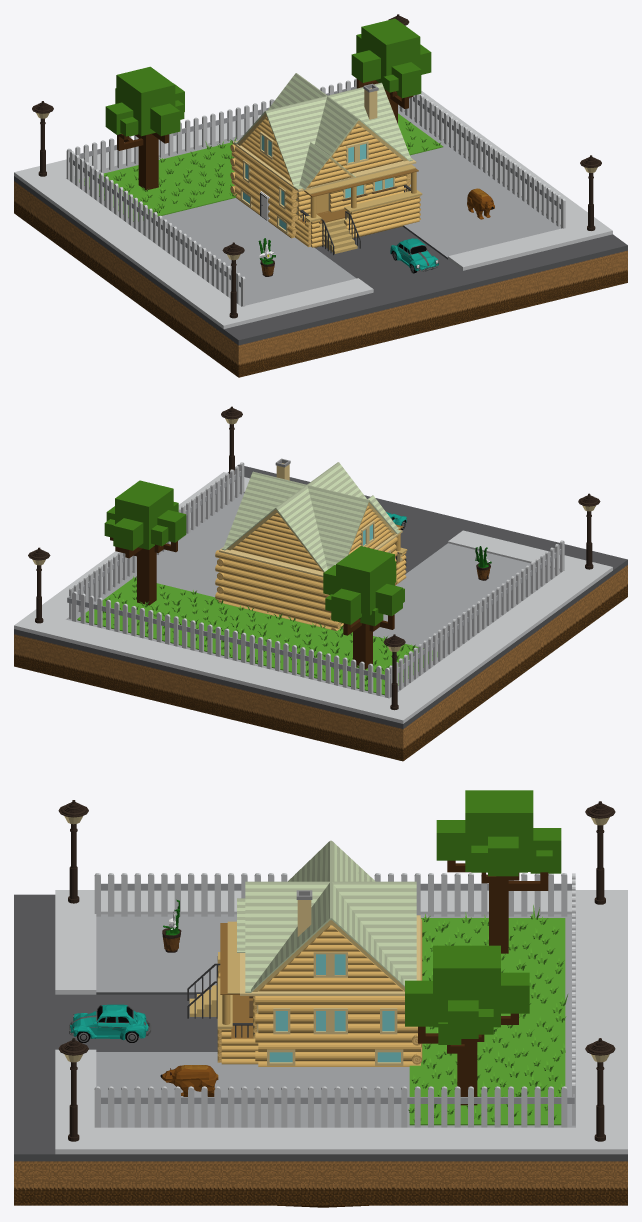
3 views of the same model, one above another, from view 1: azimuth 30°, elevation 25°; view 2: azimuth 150°, elevation 25°; view 3: azimuth 270°, elevation 25° (orthographic). The views are drawn at different scales.
Visible parts, largest first — view 1: Cube.004, Cube.1516, VEHICLES_VOLKSWAGEN, ANIMAL_OSO; view 2: Cube.004, Cube.1516; view 3: Cube.004, Cube.1516, VEHICLES_VOLKSWAGEN, ANIMAL_OSO, OBJRANDOM_MONJA BLANCA.
Boxes of the visible parts, x1,y1,x2,y2 form: Cube.004: (14, 14, 627, 377); Cube.1516: (230, 73, 422, 255); VEHICLES_VOLKSWAGEN: (390, 238, 438, 273); ANIMAL_OSO: (467, 188, 494, 219); Cube.004: (14, 406, 627, 761); Cube.1516: (215, 458, 407, 630); Cube.004: (14, 790, 627, 1205); Cube.1516: (187, 840, 422, 1066); VEHICLES_VOLKSWAGEN: (69, 1004, 151, 1042); ANIMAL_OSO: (160, 1065, 218, 1096); OBJRANDOM_MONJA BLANCA: (162, 899, 181, 952).
Bounding box in the file's own units: 4000 × 1666 × 4000.
40 materials, 4 textured.
